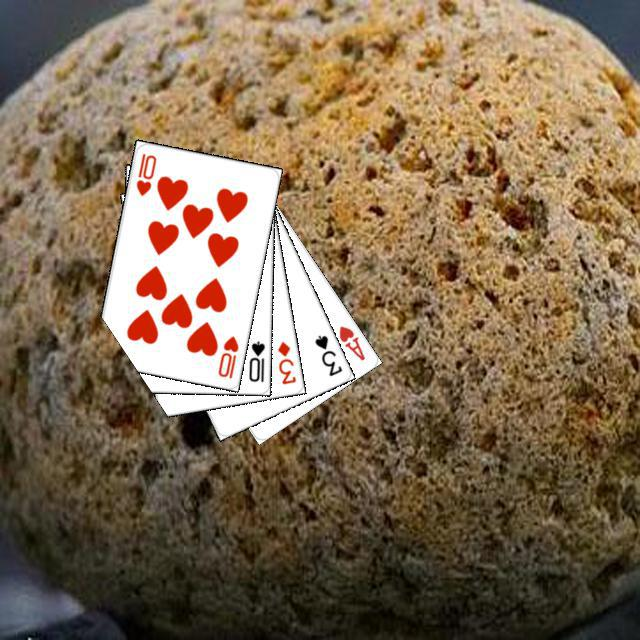10h: (131, 148, 158, 198), (213, 331, 240, 380)
10s: (244, 336, 267, 383)
3d: (273, 337, 298, 386)
3s: (309, 330, 344, 378)
Ah: (334, 321, 367, 362)
